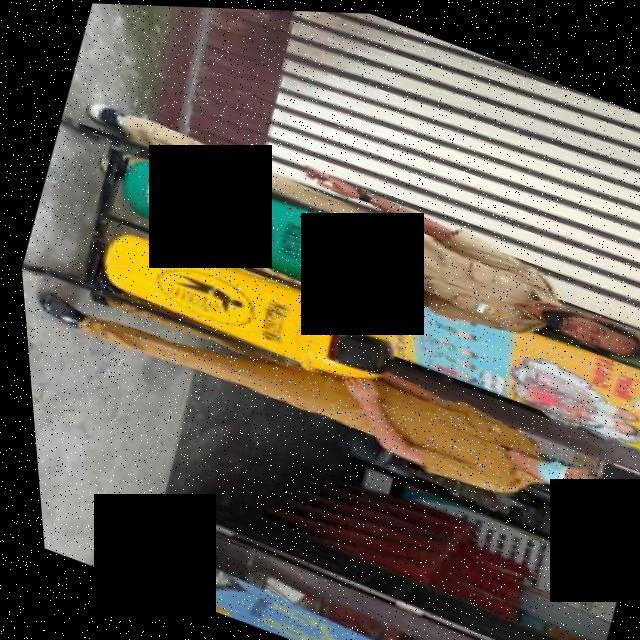bin: (63, 205, 402, 403), (93, 129, 424, 319)
